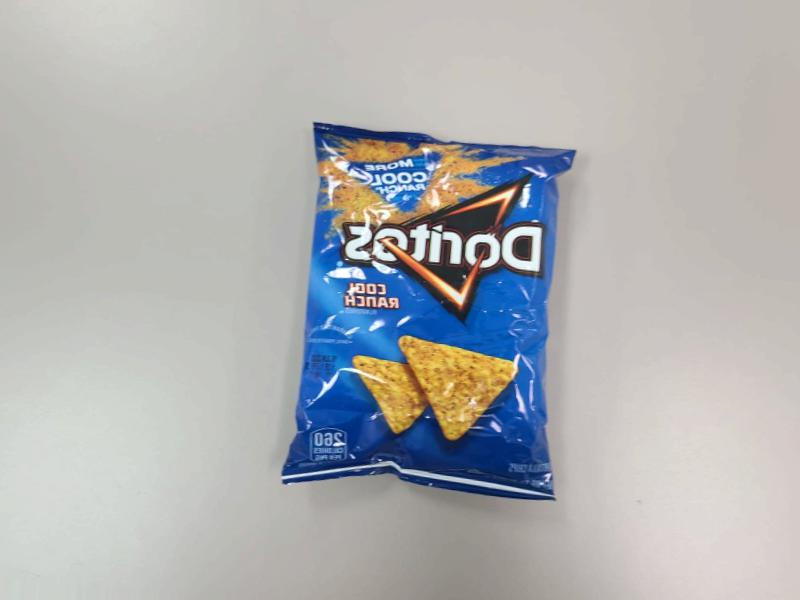doritos: (307, 111, 573, 533)
